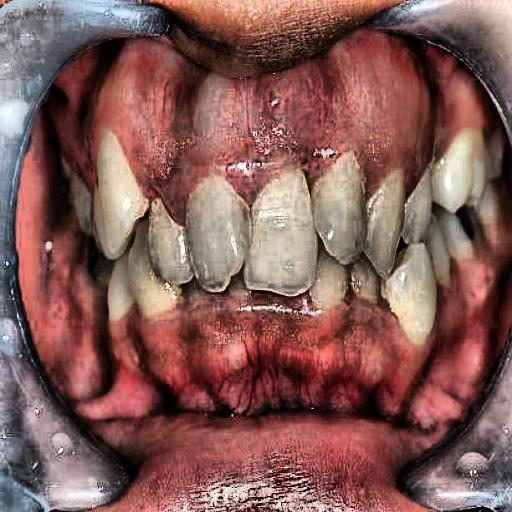Gingivitis: (102, 40, 312, 194), (318, 47, 502, 184), (272, 295, 426, 414), (103, 310, 259, 410)
